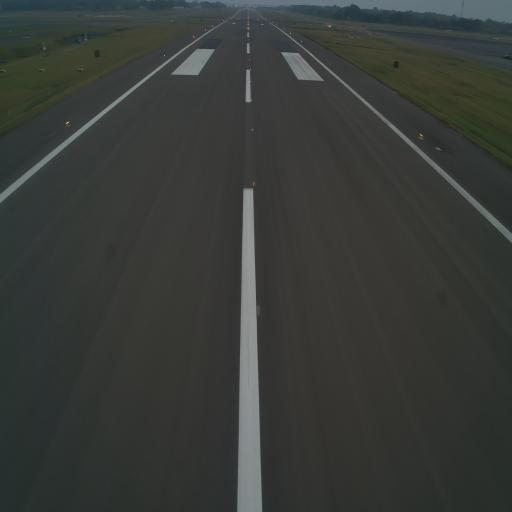off: (328, 60, 331, 68)
on: (254, 302, 264, 320), (64, 114, 72, 131), (250, 177, 257, 189), (419, 130, 424, 142), (250, 126, 256, 135), (248, 97, 254, 104), (248, 58, 252, 63), (249, 66, 252, 72), (163, 53, 166, 58), (250, 78, 252, 84), (300, 39, 303, 43), (193, 34, 195, 39), (249, 46, 251, 48), (248, 42, 250, 44), (249, 51, 250, 54)
